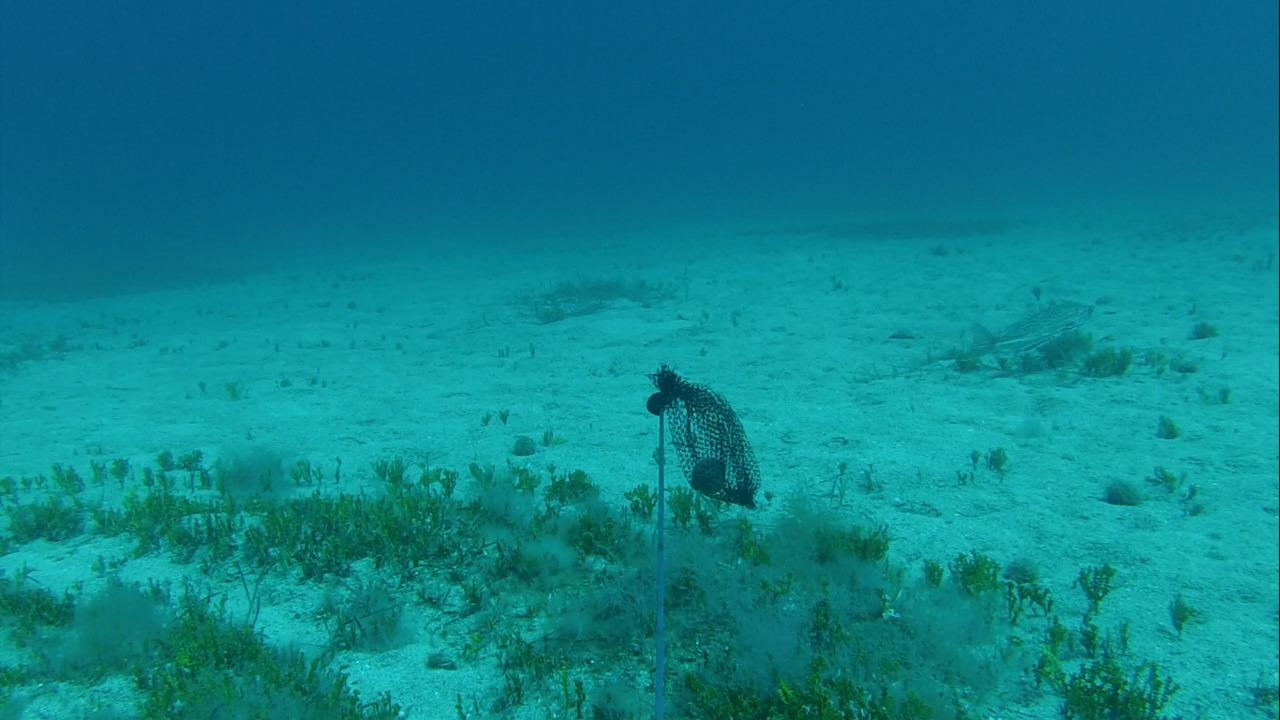dactylopterus: (967, 297, 1101, 353)
